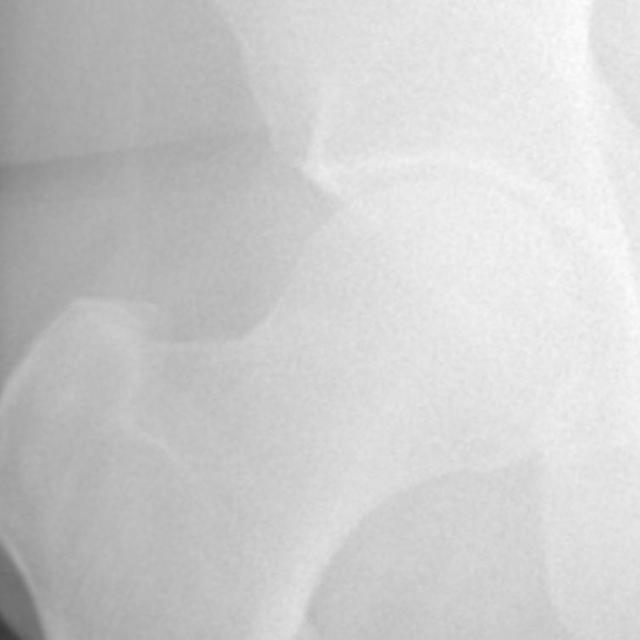Fitted_femural_head: (301, 180, 432, 301)
